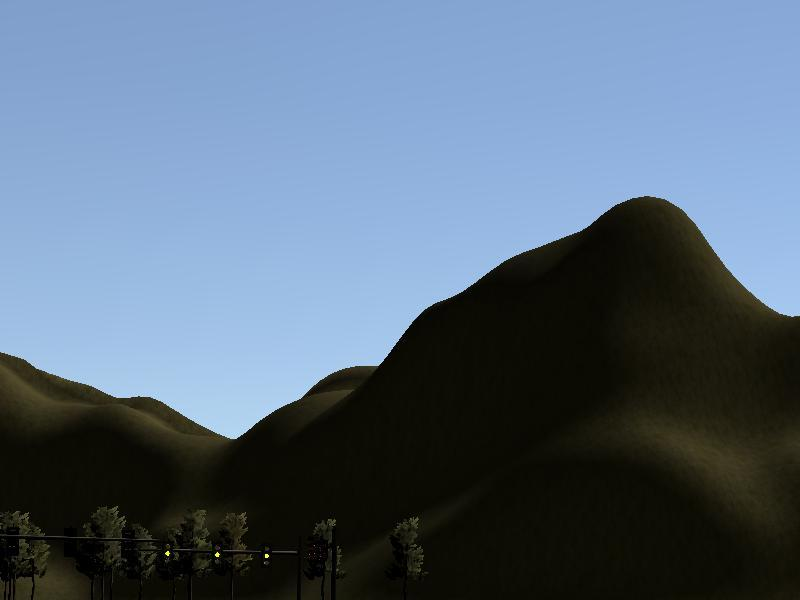Yellow: (211, 540, 225, 569), (162, 540, 174, 567), (262, 541, 273, 570)
